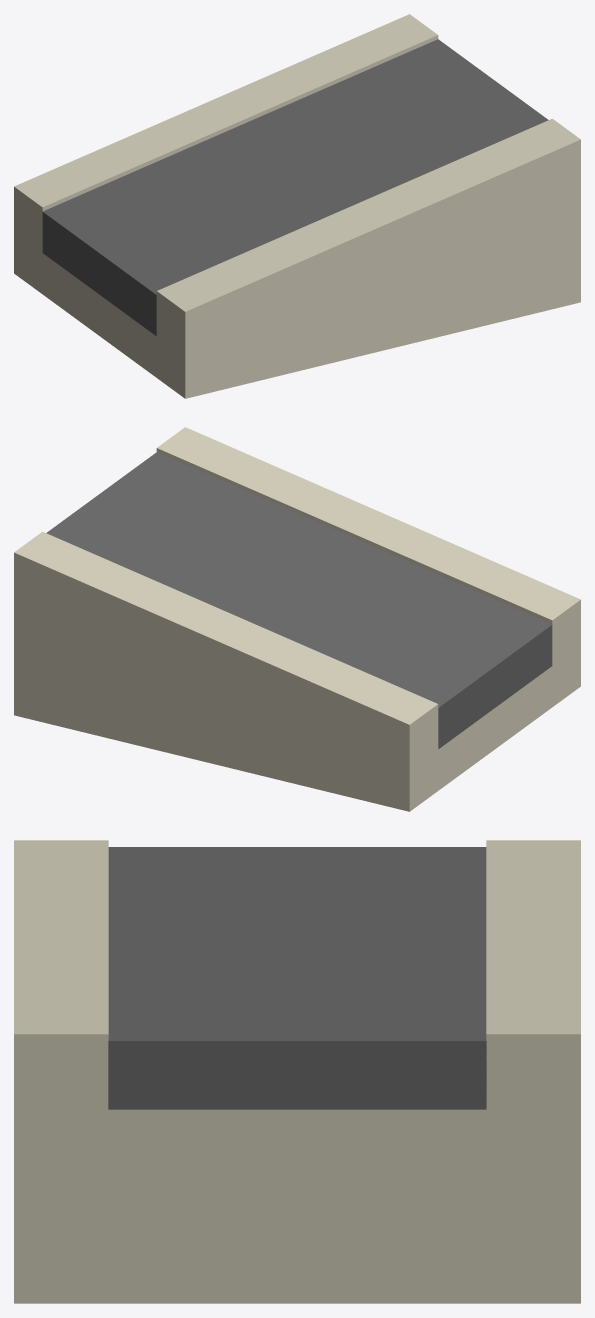
Rendered from tile150.fbx.
3 renders of one model, top to bottom at view 1: azimuth 30°, elevation 25°; view 2: azimuth 150°, elevation 25°; view 3: azimuth 270°, elevation 25°, orthographic. The views are drawn at different scales.
Visible parts, largest first — view 1: tile150; view 2: tile150; view 3: tile150.
Part boxes in pixels (x1,y1,x2,y2): tile150: [14, 14, 580, 398]; tile150: [14, 427, 580, 811]; tile150: [14, 840, 580, 1303].
Size of the model in its own units: 10 by 3.93 by 7.5.
